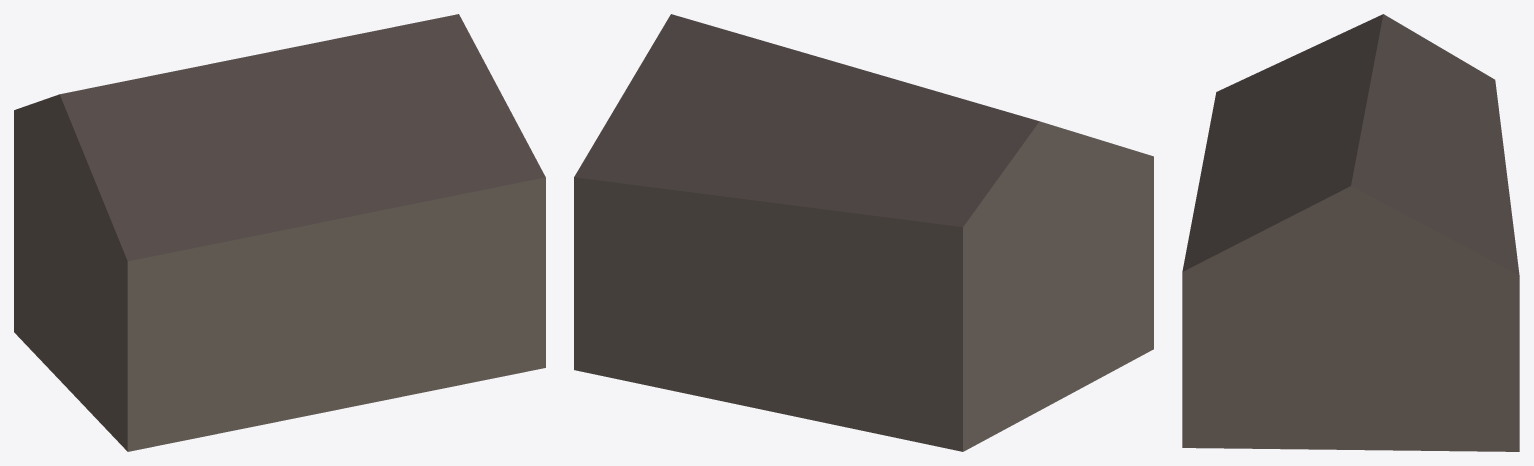
3 views of the same model, side by side, from view 1: azimuth 30°, elevation 25°; view 2: azimuth 150°, elevation 25°; view 3: azimuth 270°, elevation 25° (orthographic). The views are drawn at different scales.
Parts seen in each view (by area): view 1: HP-w1515071144; view 2: HP-w1515071144; view 3: HP-w1515071144.
Part boxes in pixels (x1=…): HP-w1515071144: x1=14, y1=14, x2=545, y2=451; HP-w1515071144: x1=574, y1=14, x2=1153, y2=451; HP-w1515071144: x1=1182, y1=14, x2=1519, y2=451.
Bounding box in the file's own units: 20.2 × 13.51 × 15.64.
